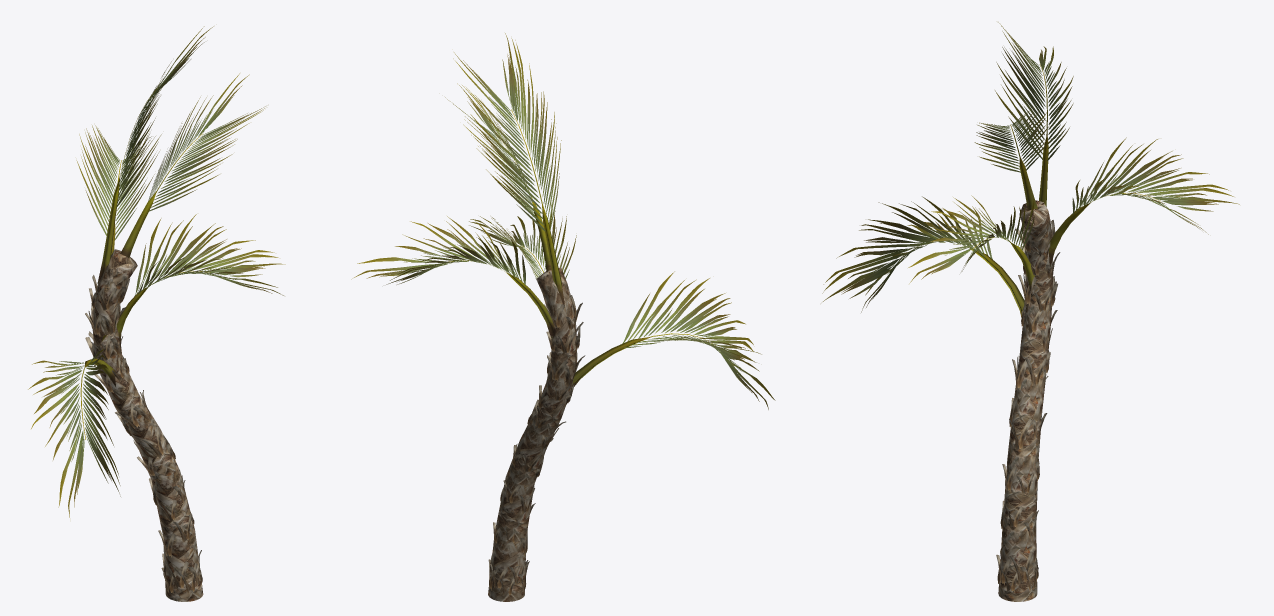
File: Palmsixty.obj
3 views of the same model, side by side, from view 1: azimuth 30°, elevation 25°; view 2: azimuth 150°, elevation 25°; view 3: azimuth 270°, elevation 25° (orthographic). The views are drawn at different scales.
Visible parts, largest first — view 1: curly palm leaf, palm07, barkpalm, frond stem; view 2: curly palm leaf, palm07, barkpalm, frond stem; view 3: curly palm leaf, palm07, barkpalm, frond stem.
Part boxes in pixels (bbox=[...]): curly palm leaf: bbox=[28, 26, 285, 517]; palm07: bbox=[92, 249, 203, 601]; barkpalm: bbox=[85, 275, 202, 594]; frond stem: bbox=[84, 176, 156, 386]; curly palm leaf: bbox=[351, 33, 775, 409]; palm07: bbox=[488, 267, 576, 601]; barkpalm: bbox=[488, 295, 585, 595]; frond stem: bbox=[506, 197, 651, 386]; curly palm leaf: bbox=[822, 22, 1239, 312]; palm07: bbox=[998, 200, 1053, 601]; barkpalm: bbox=[996, 220, 1060, 592]; frond stem: bbox=[970, 133, 1091, 317].
Size of the model in its own units: 154 by 276 by 189.
Materials: 4 (4 with a texture image).
